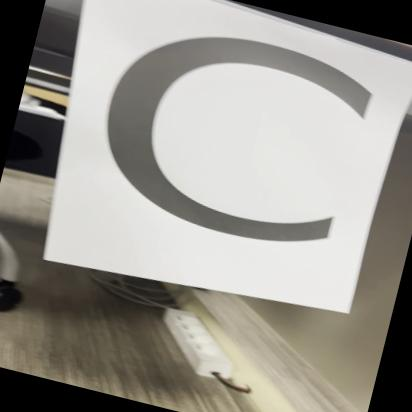seat: (44, 0, 412, 305)
